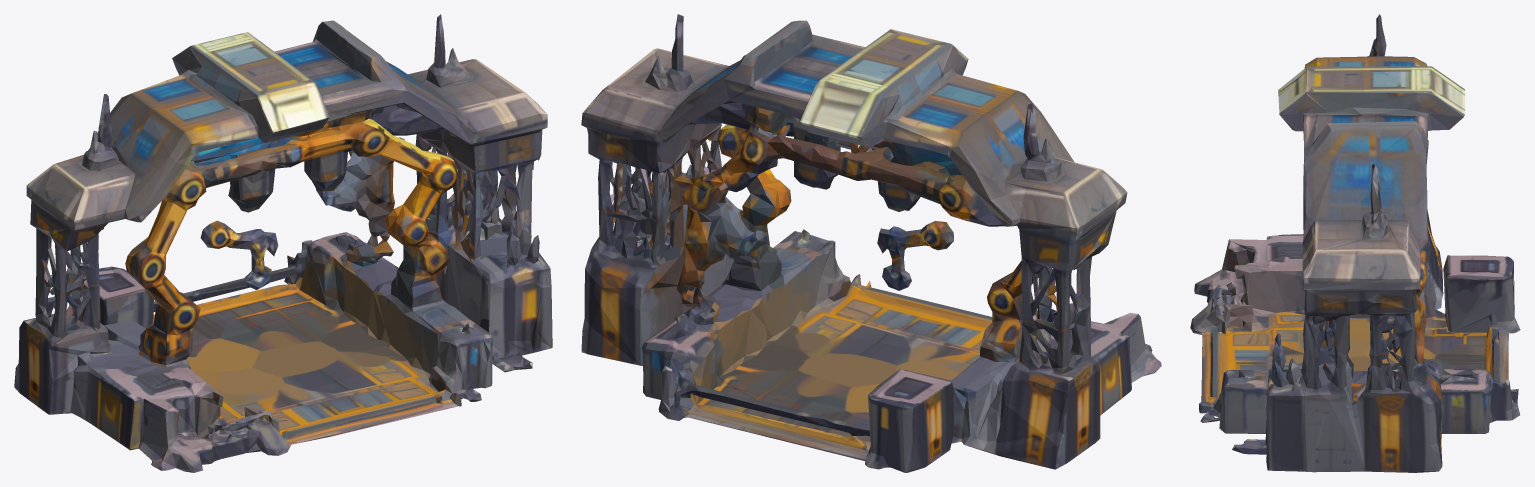
File: cyber_repair_dock_1117.glb
3 renders of one model, left to right at view 1: azimuth 30°, elevation 25°; view 2: azimuth 150°, elevation 25°; view 3: azimuth 270°, elevation 25°, orthographic. The views are drawn at different scales.
Parts seen in each view (by area): view 1: tmpzpgwmr5q.ply; view 2: tmpzpgwmr5q.ply; view 3: tmpzpgwmr5q.ply.
Boxes of the visible parts, bbox=[...] form: tmpzpgwmr5q.ply: bbox=[14, 14, 552, 472]; tmpzpgwmr5q.ply: bbox=[581, 14, 1161, 472]; tmpzpgwmr5q.ply: bbox=[1190, 14, 1520, 472].
Size of the model in its own units: 1.98 by 1.25 by 1.32.
Materials: 1 (1 with a texture image).
